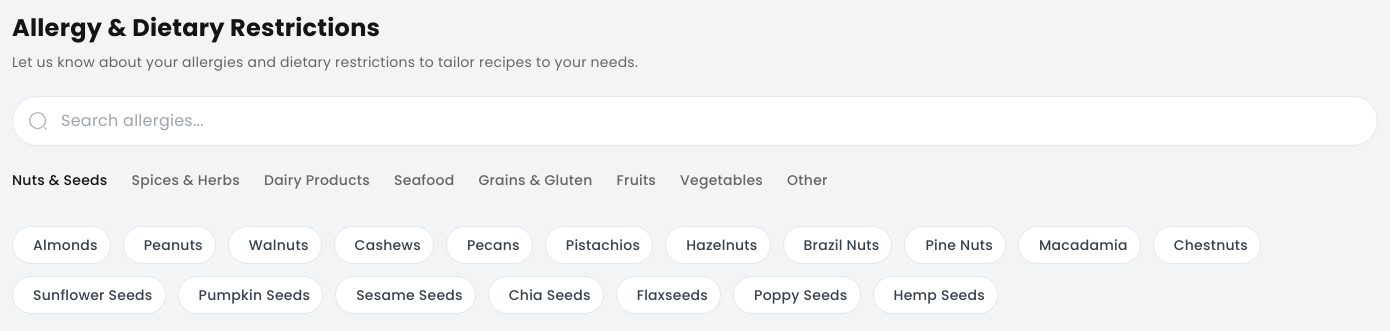
AllergiesPage › Category Tabs › switches to Seafood when clicked
Click the button "Seafood": (424, 186) x1=394 y1=170 x2=454 y2=202
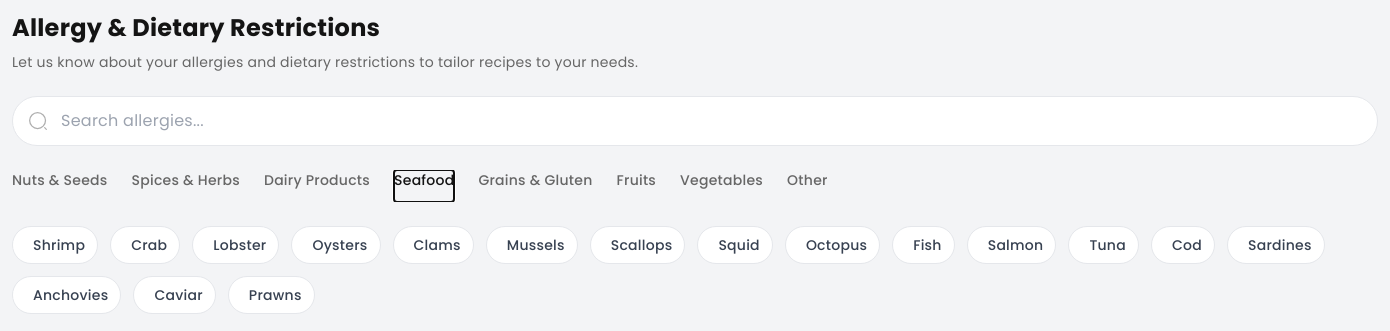
Now the button "Shrimp" is shown, box x1=12 y1=226 x2=98 y2=264
Now the button "Crab" is shown, box x1=110 y1=226 x2=180 y2=264
